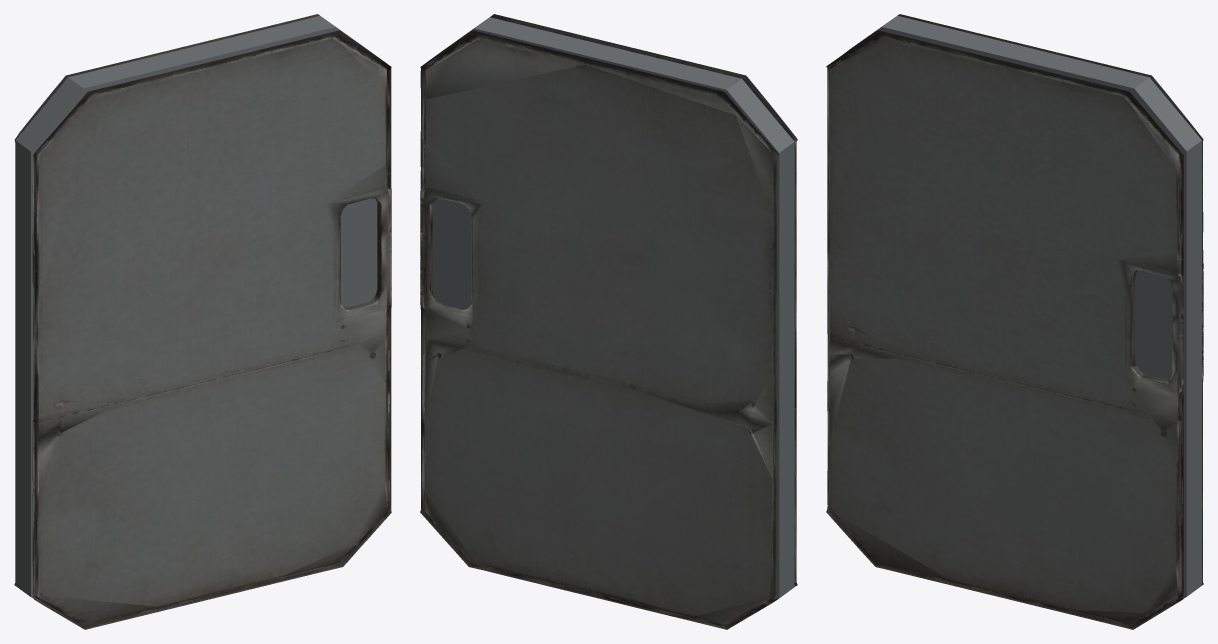
Rendered from airlock_pressure_leaf.glb.
3 renders of one model, left to right at view 1: azimuth 30°, elevation 25°; view 2: azimuth 150°, elevation 25°; view 3: azimuth 330°, elevation 25°, orthographic.
Visible parts, largest first — view 1: airlock_pressure_leaf; view 2: airlock_pressure_leaf; view 3: airlock_pressure_leaf.
Part boxes in pixels (x1=…): airlock_pressure_leaf: x1=14, y1=14, x2=391, y2=629; airlock_pressure_leaf: x1=420, y1=14, x2=797, y2=629; airlock_pressure_leaf: x1=826, y1=14, x2=1203, y2=629.
Size of the model in its own units: 1.45 by 2.08 by 0.1558.
2 materials, 1 textured.
